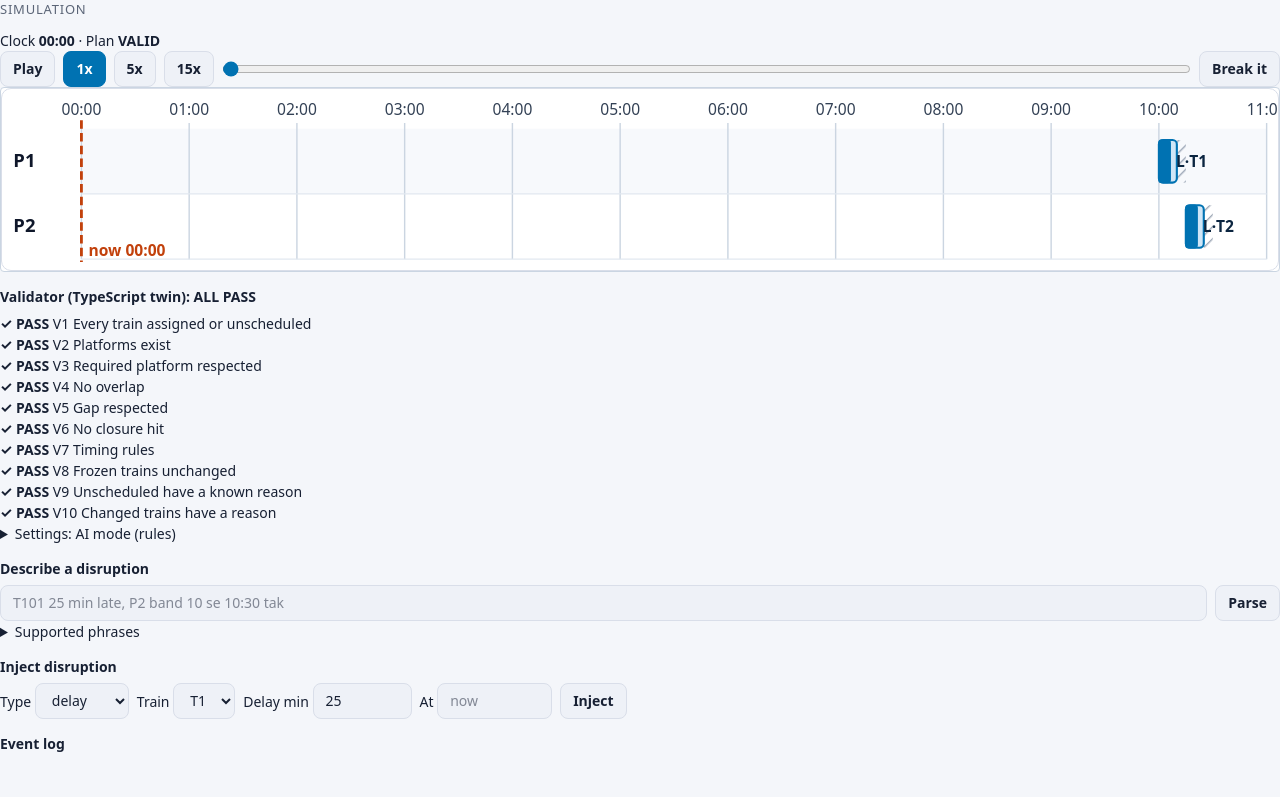
SimulationPanel › break it turns the plan invalid, restore fixes it
Expected: the text with test id "live" reads "VALID", [118,30,160,50]
Click the button "Break it" at {"x": 1240, "y": 68}, box [1199,50,1279,86]
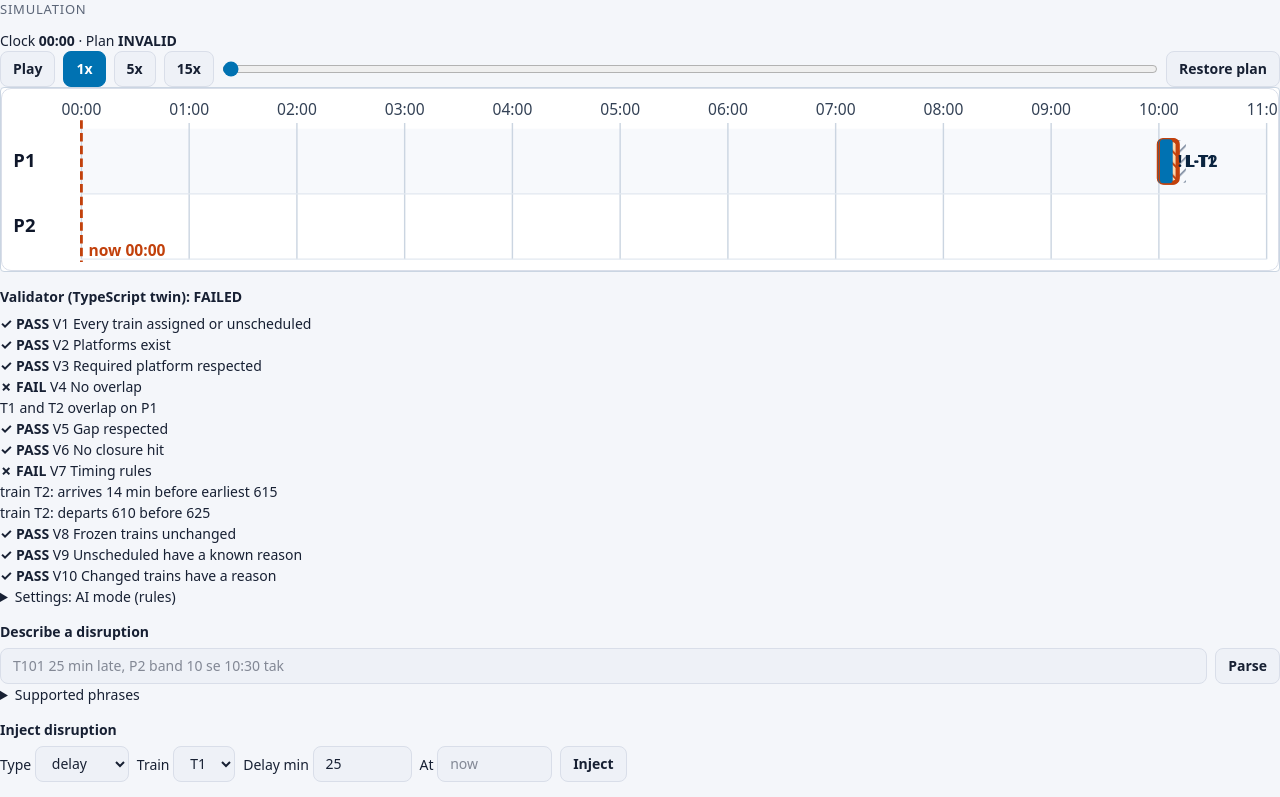
Now the text with test id "live" reads "INVALID", box [118,30,177,50]
Click the button "Restore plan" at {"x": 1223, "y": 68}, box [1166,50,1279,86]
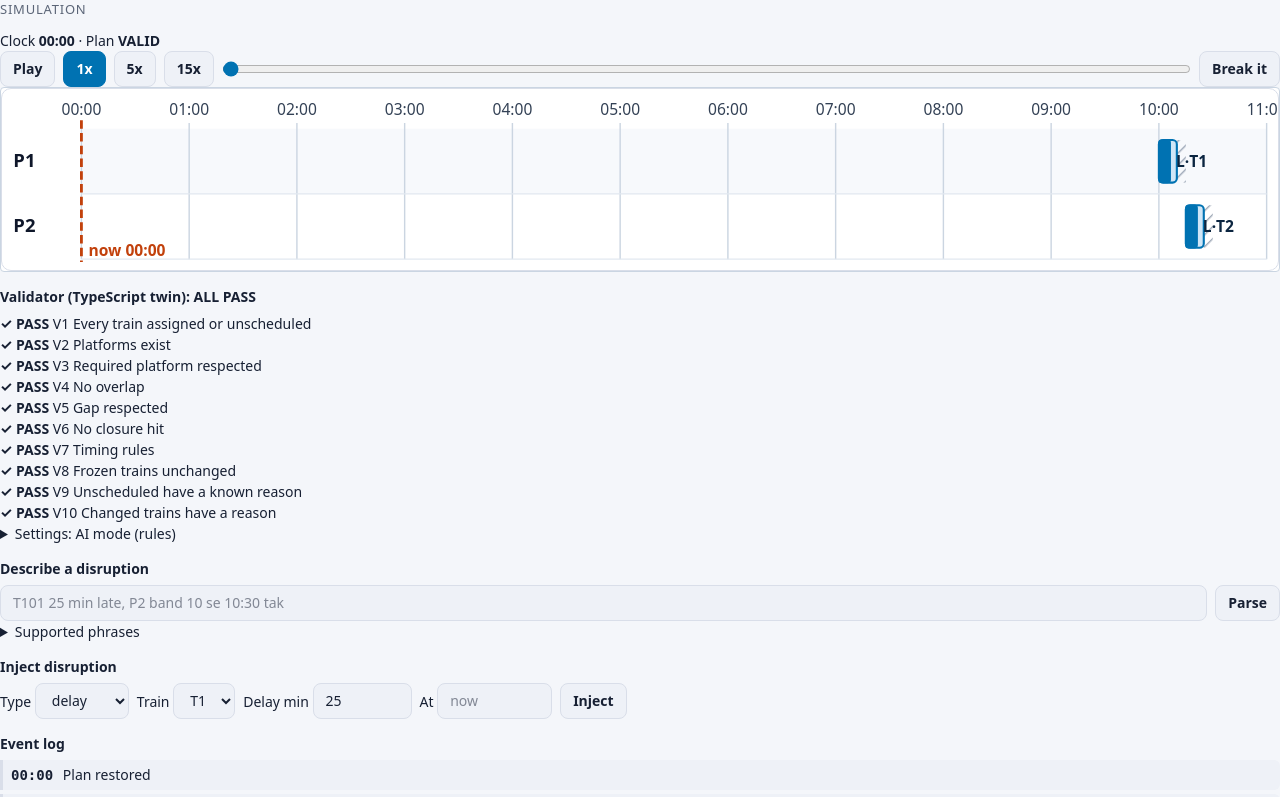
Now the text with test id "live" reads "VALID", box [118,30,160,50]
